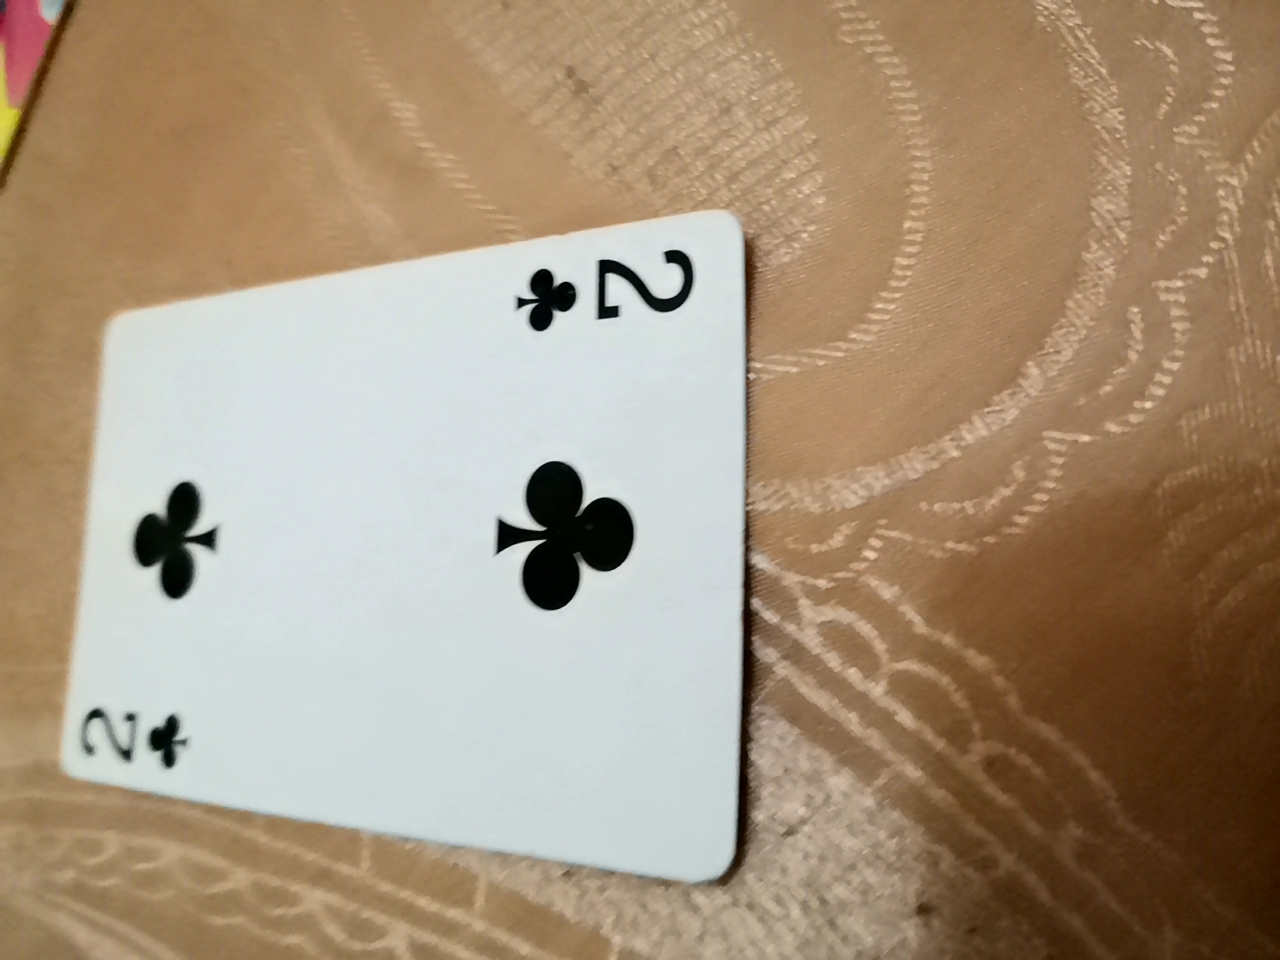mh 2: (73, 311, 697, 946)
